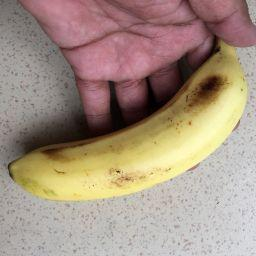Banana Ripe: (7, 35, 256, 211)
